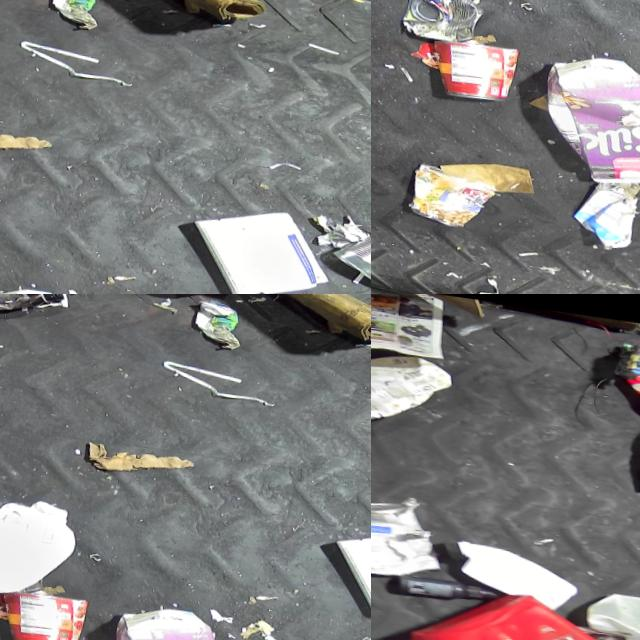can: (371, 481, 450, 581), (428, 35, 522, 105), (408, 160, 499, 231), (0, 585, 91, 640), (399, 0, 487, 45), (328, 211, 371, 288)
milk_jug: (0, 481, 82, 605)
non_white_jug: (399, 575, 640, 640), (532, 48, 640, 189), (371, 337, 454, 437), (101, 599, 253, 640)
